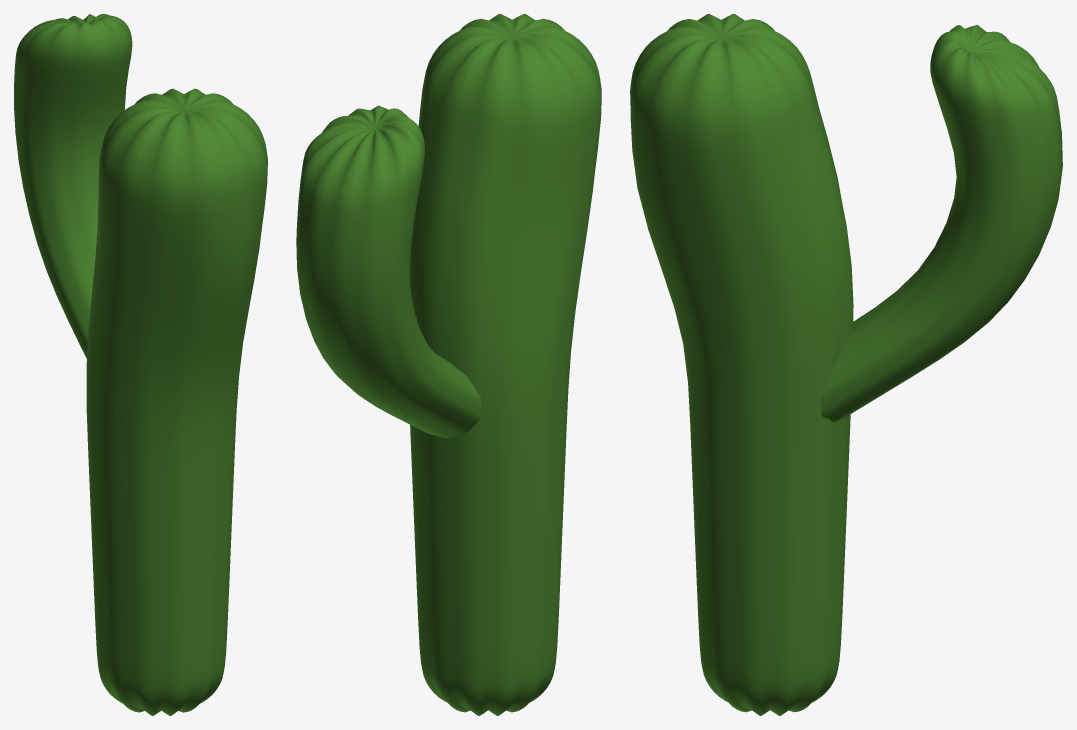
File: Cactus.fbx
3 renders of one model, left to right at view 1: azimuth 30°, elevation 25°; view 2: azimuth 150°, elevation 25°; view 3: azimuth 270°, elevation 25°, orthographic. The views are drawn at different scales.
Parts seen in each view (by area): view 1: Cactus; view 2: Cactus; view 3: Cactus.
Boxes of the visible parts, x1,y1,x2,y2 form: Cactus: (14, 14, 267, 715); Cactus: (296, 14, 601, 715); Cactus: (630, 14, 1062, 715).
Bounding box in the file's own units: 31.74 × 128 × 74.56.
